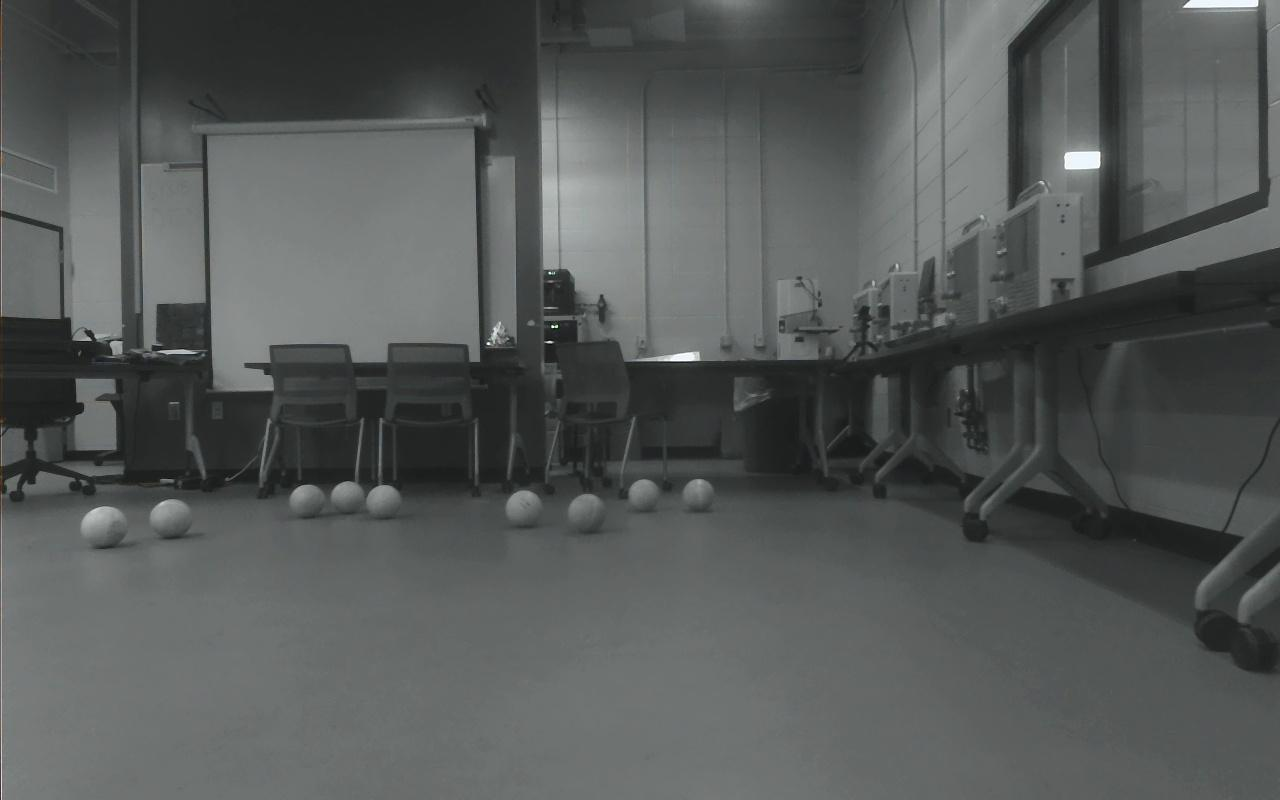Fuel: (79, 506, 128, 549), (148, 499, 193, 540), (568, 493, 607, 534), (506, 490, 544, 528), (289, 484, 328, 519), (365, 484, 402, 519), (330, 480, 366, 514), (682, 478, 714, 513), (628, 478, 660, 512)
